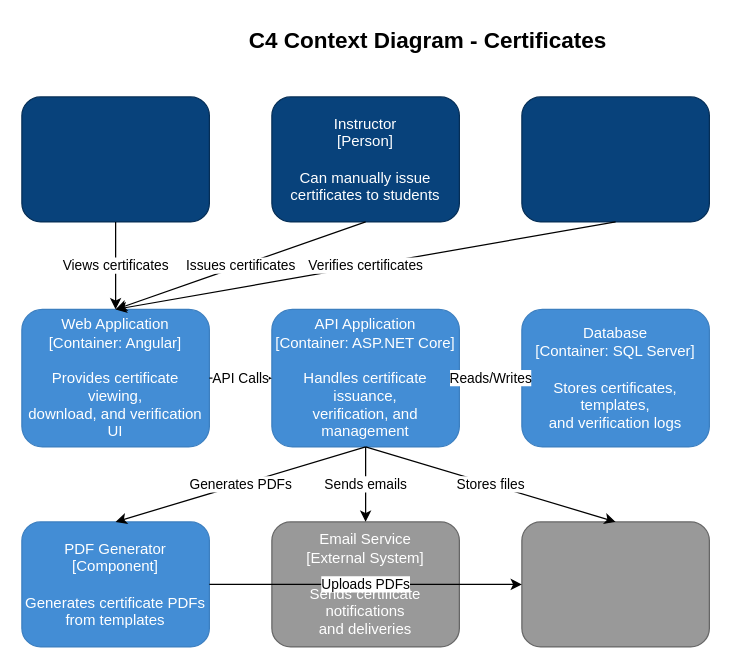
This 731x669 diagram has some shape labels left out. The shapes that lost their labels are listed below. From the top down, each one's centre as x and y in pixels, then its label:
At pixel 115 159: "Student [Person] A learner who completes courses and earns certificates".
At pixel 615 159: "Verifier [Person] Employer or institution verifying certificates".
At pixel 615 584: "File Storage [External System] Stores certificate PDFs and template images".
